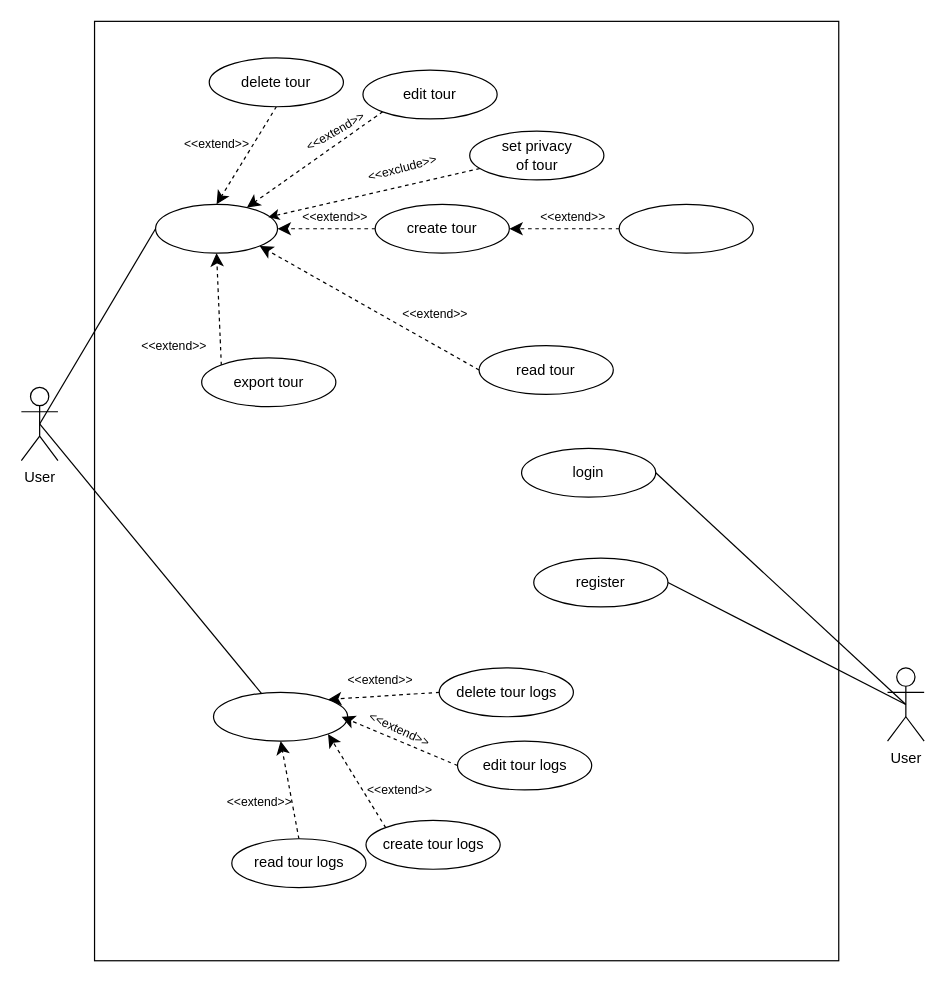
This 946x982 diagram has some shape labels left out. Each missing label, with the box of its shape:
import tour data: (618, 203, 753, 253)
manage tour logs: (212, 691, 348, 741)
manage tours: (154, 203, 278, 253)
